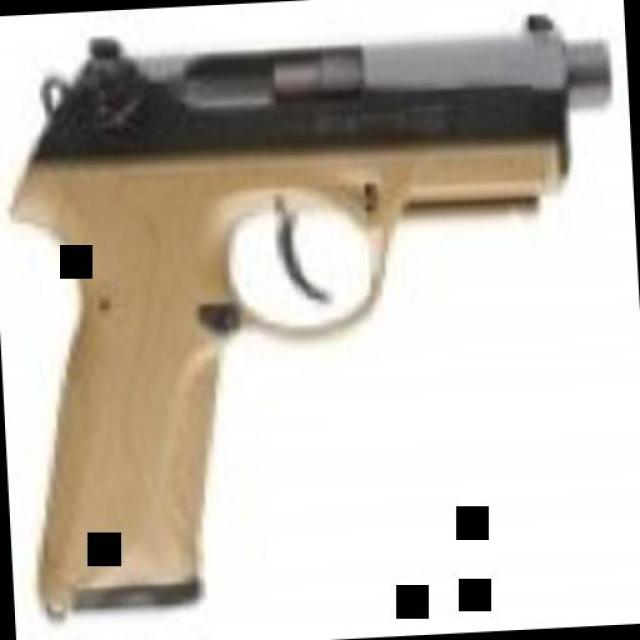gun: (2, 0, 636, 610)
